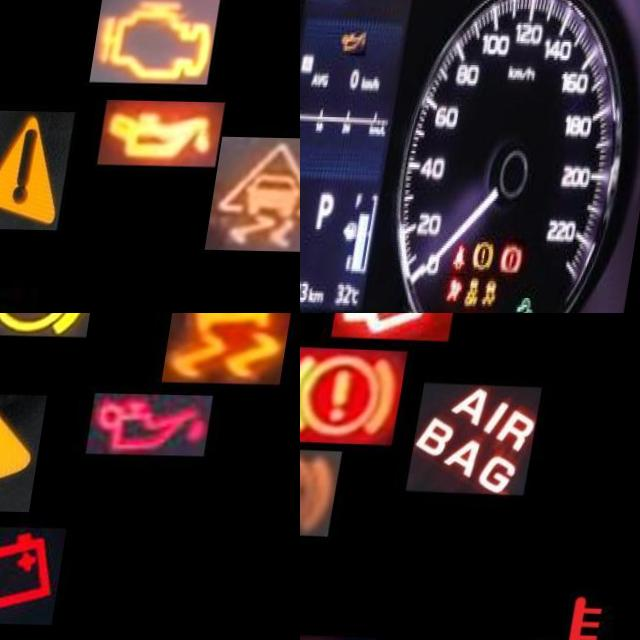Central Warning lamp: (0, 109, 81, 228), (0, 391, 52, 510)
Engine cooling system: (522, 573, 640, 640)
